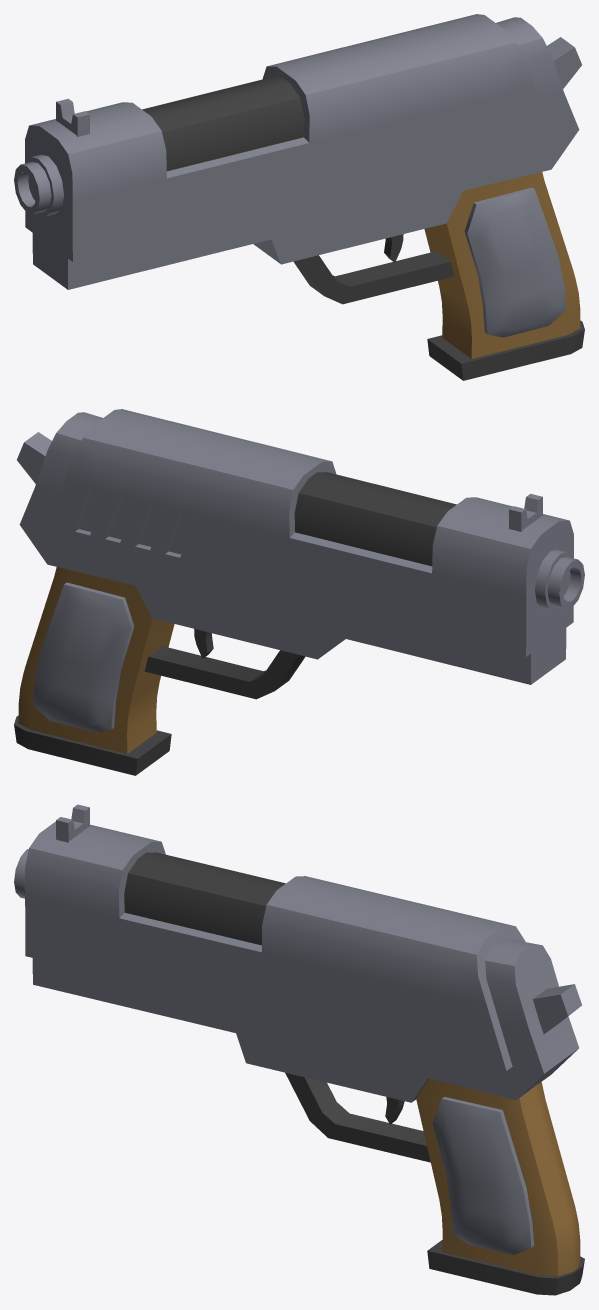
The model's file is pistol.glb.
3 renders of one model, top to bottom at view 1: azimuth 30°, elevation 25°; view 2: azimuth 150°, elevation 25°; view 3: azimuth 330°, elevation 25°, orthographic.
Parts seen in each view (by area): view 1: Pistol; view 2: Pistol; view 3: Pistol.
Boxes of the visible parts, x1,y1,x2,y2 form: Pistol: (14,14,584,380); Pistol: (14,409,584,775); Pistol: (14,804,584,1295).
Size of the model in its own units: 0.7909 by 0.4822 by 0.1181.
